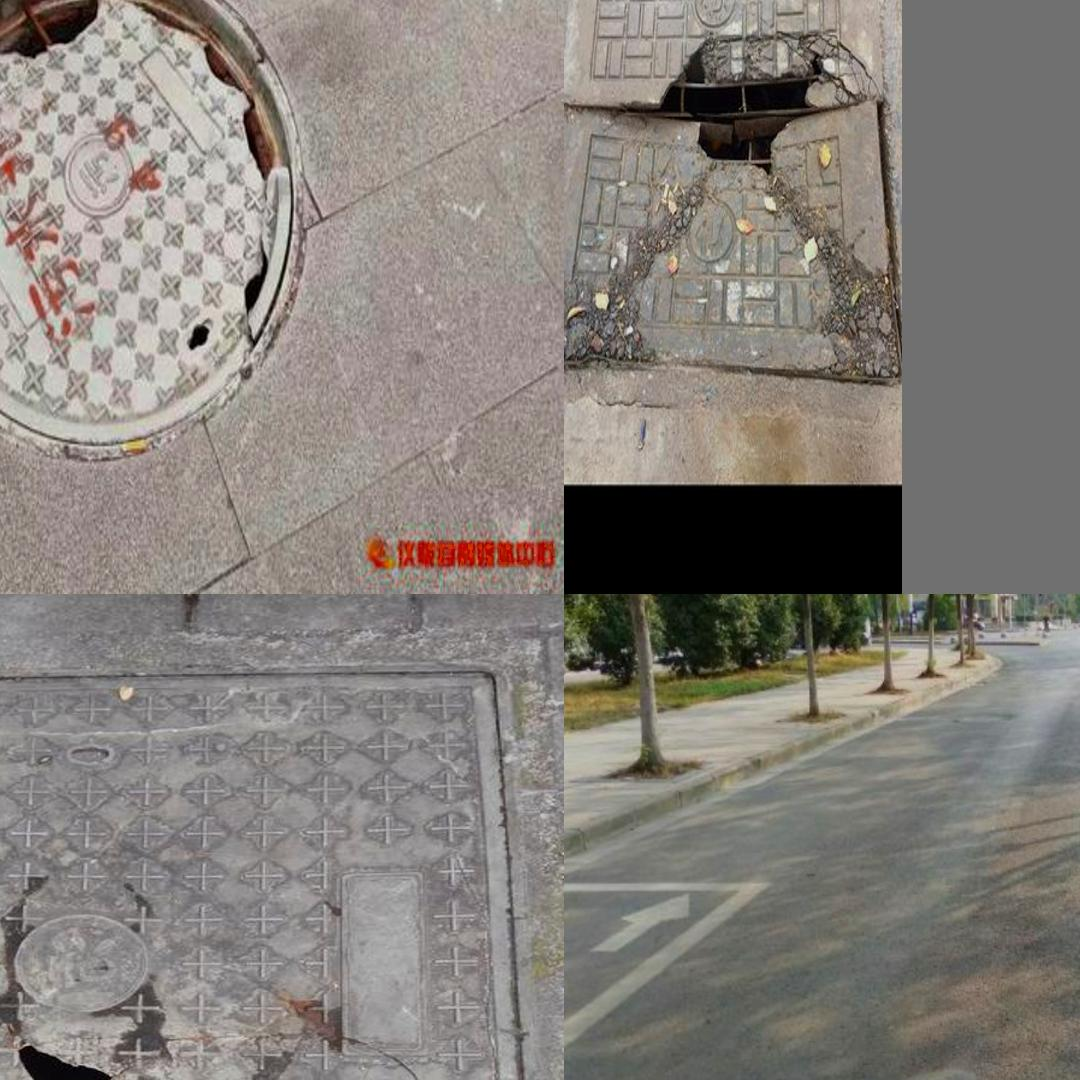broke: (0, 625, 547, 1080), (0, 0, 328, 448), (568, 0, 902, 430)
